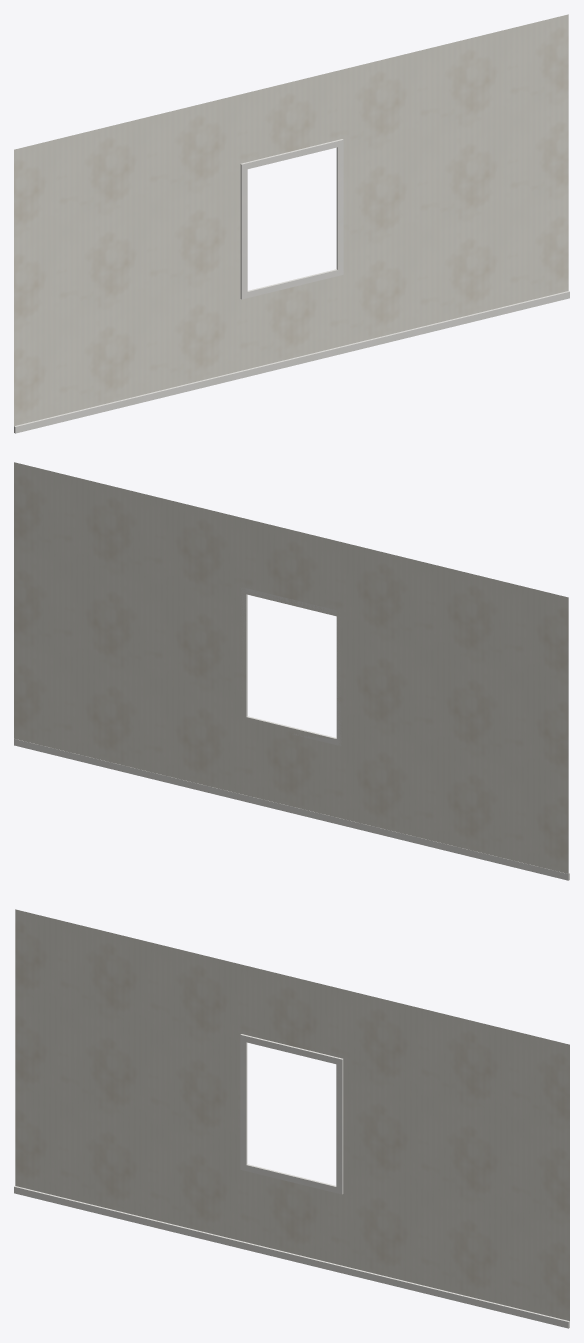
Rendered from wm_12_2210fbd5.gltf.
The picture shows the model from 3 angles, top to bottom: view 1: azimuth 30°, elevation 25°; view 2: azimuth 150°, elevation 25°; view 3: azimuth 330°, elevation 25°; orthographic projection.
Visible parts, largest first — view 1: jx_wm_12_2210fbd5; view 2: jx_wm_12_2210fbd5; view 3: jx_wm_12_2210fbd5.
Part boxes in pixels (x1,y1,x2,y2): jx_wm_12_2210fbd5: [14, 14, 569, 433]; jx_wm_12_2210fbd5: [14, 462, 569, 880]; jx_wm_12_2210fbd5: [14, 909, 569, 1328].
Size of the model in its own units: 12.3 by 6 by 0.05.
2 materials, 2 textured.
